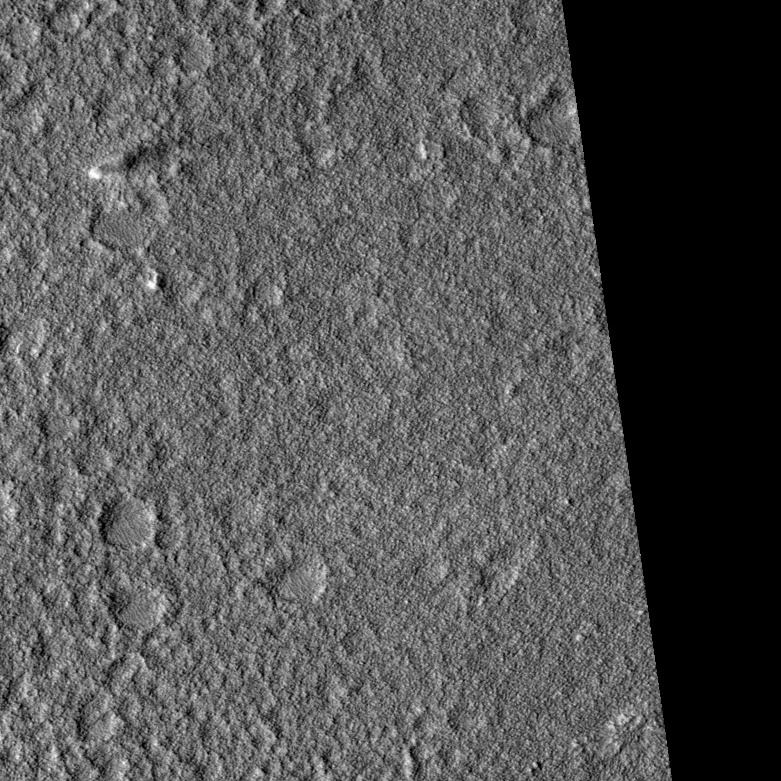dust_devil: (83, 137, 173, 183)
